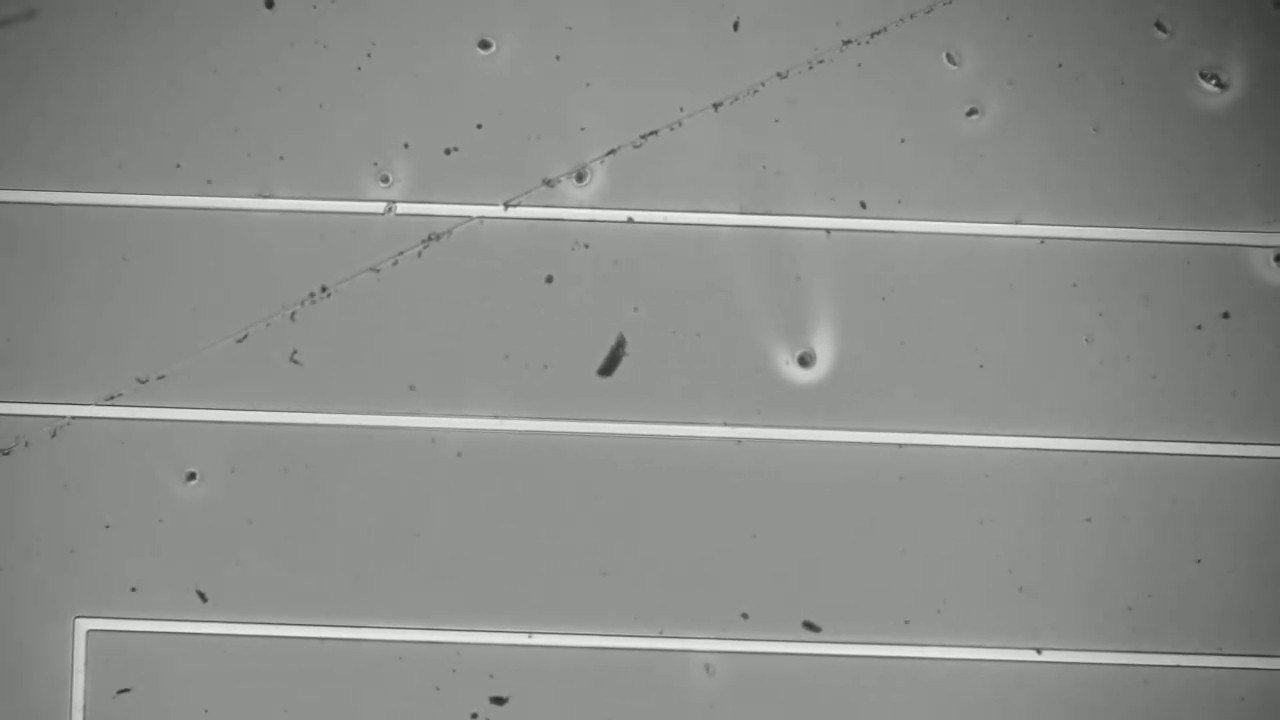open: (371, 193, 410, 220)
scratch: (11, 1, 965, 459)
